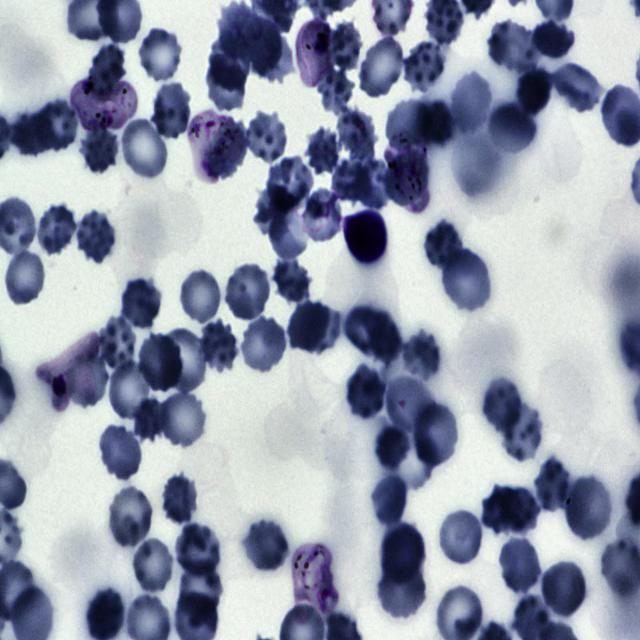leukocyte: (343, 208, 389, 269)
red blood cell: (440, 248, 493, 314), (375, 560, 428, 624), (412, 400, 461, 469), (378, 519, 426, 588), (563, 476, 613, 542), (106, 484, 155, 551), (162, 327, 210, 395), (357, 35, 406, 101), (385, 375, 436, 437), (498, 400, 546, 465), (238, 315, 289, 375), (550, 59, 604, 115), (222, 263, 274, 321), (448, 72, 493, 137), (173, 524, 223, 582), (436, 508, 485, 567), (179, 559, 222, 626), (136, 25, 184, 85), (387, 432, 438, 488), (158, 387, 206, 446), (106, 358, 152, 419), (540, 560, 588, 618), (130, 536, 176, 596), (242, 518, 290, 575), (177, 268, 224, 326), (486, 18, 535, 73), (498, 535, 542, 596), (138, 332, 182, 393), (480, 375, 524, 435), (34, 98, 80, 155), (207, 34, 252, 92), (344, 363, 388, 422), (368, 469, 412, 528), (267, 157, 314, 212), (98, 424, 143, 481), (216, 2, 261, 59), (122, 118, 166, 176), (385, 99, 432, 152), (243, 111, 289, 165), (151, 81, 193, 140), (240, 15, 281, 75), (3, 252, 46, 308), (402, 40, 448, 92), (74, 210, 118, 264), (204, 58, 248, 112), (254, 182, 298, 235), (402, 326, 444, 381), (491, 103, 536, 154), (534, 458, 574, 515), (35, 204, 78, 257), (353, 158, 395, 212), (336, 107, 378, 160), (499, 481, 539, 536), (302, 187, 341, 242), (199, 318, 237, 374), (346, 302, 386, 355), (530, 16, 576, 62), (426, 218, 468, 268), (516, 64, 554, 119), (162, 472, 201, 525), (12, 107, 54, 156), (68, 356, 109, 406), (288, 300, 330, 348), (120, 277, 160, 327), (364, 312, 404, 362), (102, 319, 137, 375), (80, 125, 120, 173), (374, 422, 413, 471), (480, 488, 519, 537), (302, 304, 341, 352), (270, 209, 308, 258), (272, 257, 313, 302), (305, 126, 343, 174), (333, 160, 371, 207), (329, 22, 363, 72), (87, 42, 125, 86), (317, 70, 356, 112), (132, 398, 168, 439)
trophozoite: (37, 332, 106, 413), (68, 78, 138, 132), (190, 109, 242, 180), (383, 141, 432, 214), (290, 542, 337, 616), (292, 17, 336, 91)
